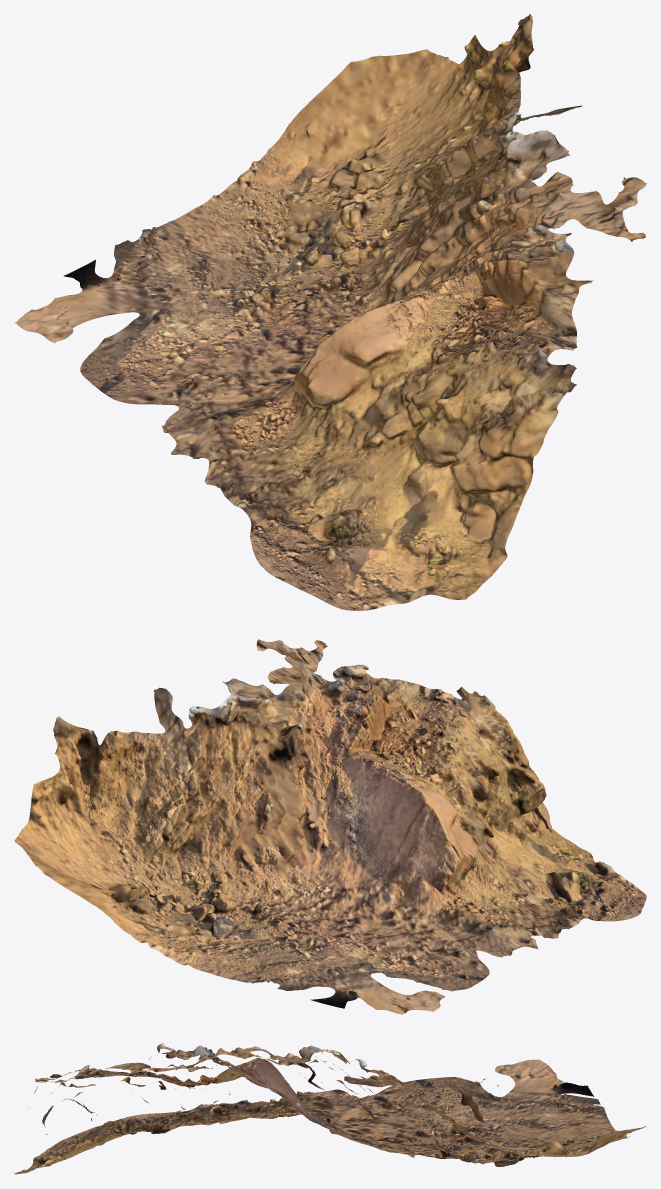
File: outcrop._sint_oman (1).glb
The picture shows the model from 3 angles, top to bottom: view 1: azimuth 30°, elevation 25°; view 2: azimuth 150°, elevation 25°; view 3: azimuth 270°, elevation 25°; orthographic projection. The views are drawn at different scales.
Visible parts, largest first — view 1: Object_4, Object_5; view 2: Object_4, Object_5; view 3: Object_4, Object_5.
Part boxes in pixels (x1,y1,x2,y2): Object_4: (14,14,646,610); Object_5: (31,22,581,559); Object_4: (14,639,646,1014); Object_5: (18,641,613,1006); Object_4: (14,1043,646,1174); Object_5: (37,1047,629,1166).
Size of the model in its own units: 10.6 by 6.19 by 14.59.
Materials: 1 (1 with a texture image).
